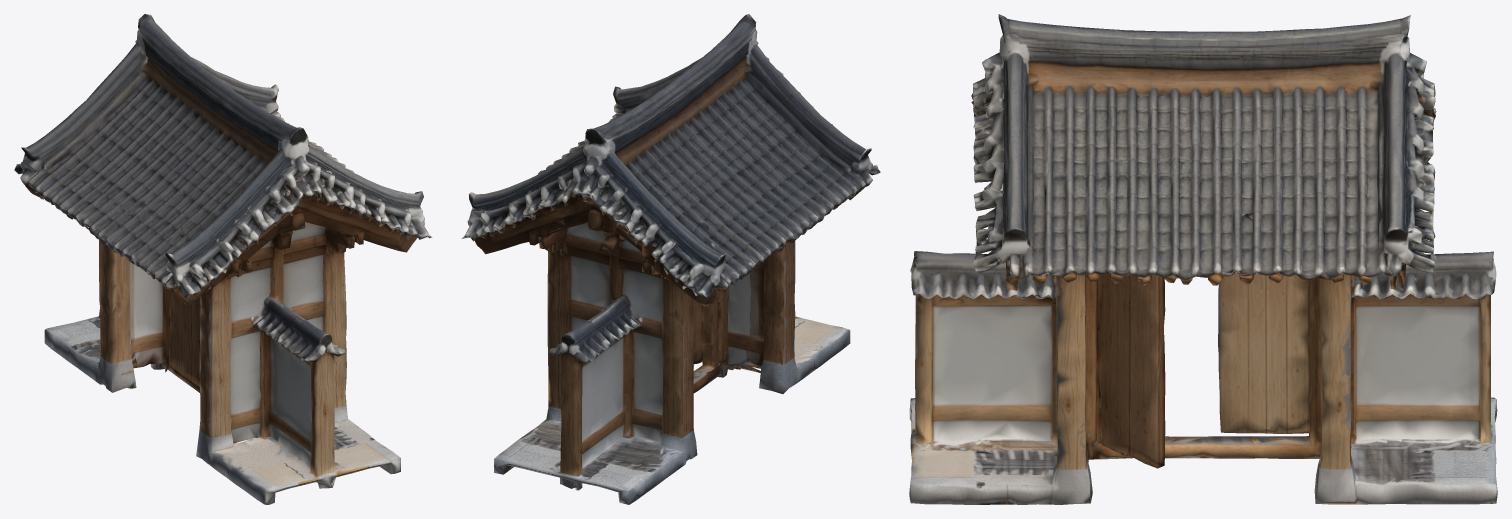
Rendered from gate.fbx.
3 views of the same model, side by side, from view 1: azimuth 30°, elevation 25°; view 2: azimuth 150°, elevation 25°; view 3: azimuth 270°, elevation 25° (orthographic). The views are drawn at different scales.
Parts seen in each view (by area): view 1: texture_mapping; view 2: texture_mapping; view 3: texture_mapping.
Boxes of the visible parts, <box> form: texture_mapping: <box>14,14,432,504</box>; texture_mapping: <box>461,14,880,504</box>; texture_mapping: <box>909,14,1497,504</box>.
Size of the model in its own units: 0.6772 by 1 by 0.8386.
1 material, 1 textured.
